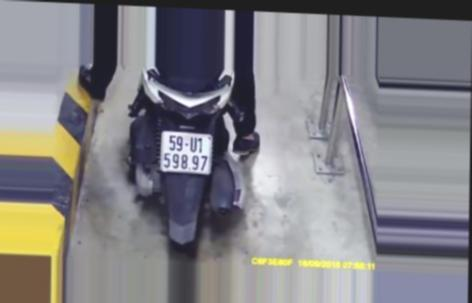License_Plate: (157, 128, 216, 179)
